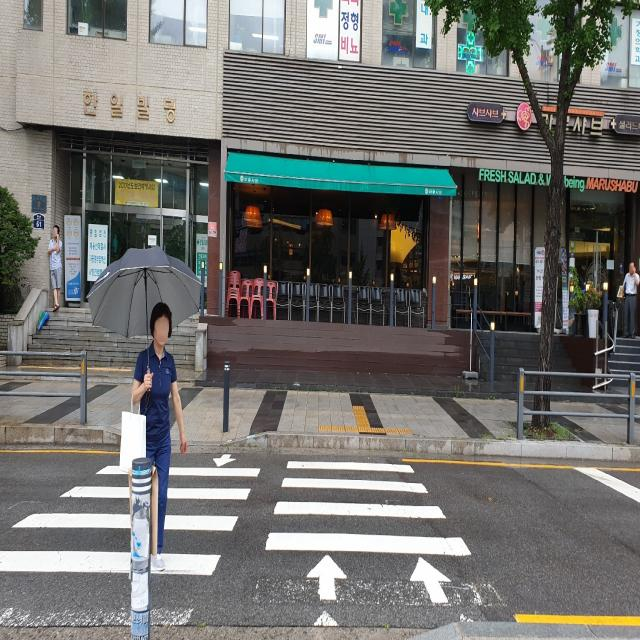횡단보도: (0, 454, 472, 626)
